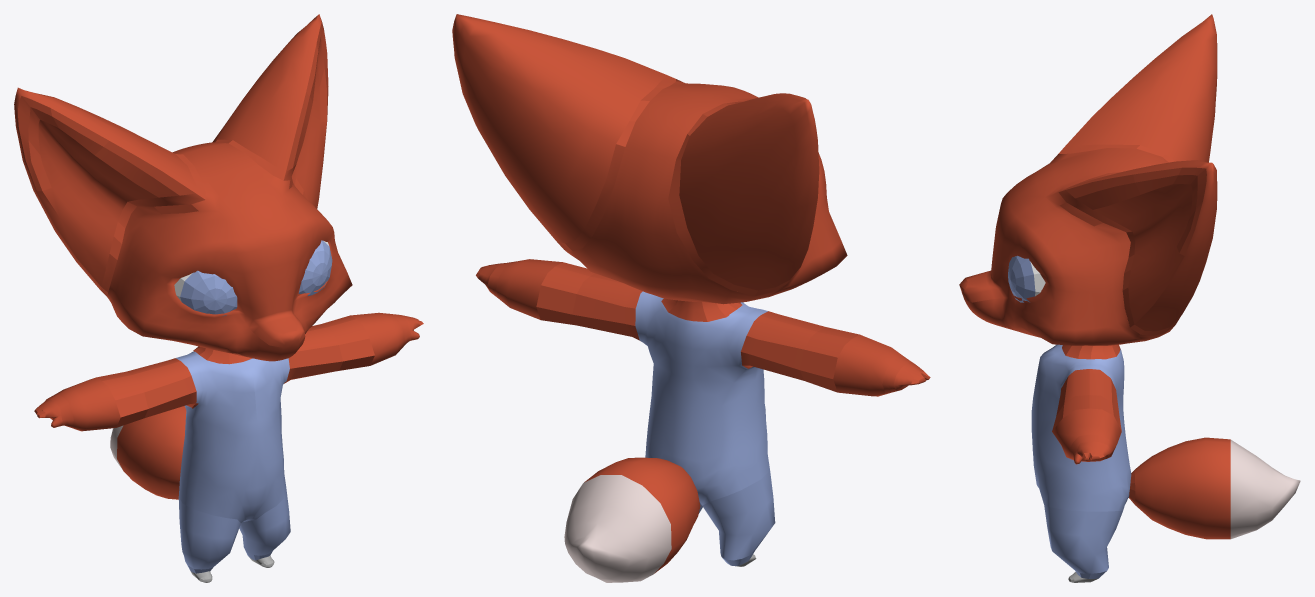
The model's file is PH_renard 1.fbx.
3 views of the same model, side by side, from view 1: azimuth 30°, elevation 25°; view 2: azimuth 150°, elevation 25°; view 3: azimuth 270°, elevation 25° (orthographic). The views are drawn at different scales.
Parts seen in each view (by area): view 1: head2; view 2: head2; view 3: head2.
Boxes of the visible parts, bbox=[...] form: head2: bbox=[14, 14, 423, 582]; head2: bbox=[452, 14, 930, 582]; head2: bbox=[959, 14, 1300, 582].
Bounding box in the file's own units: 125 × 146 × 94.84.
